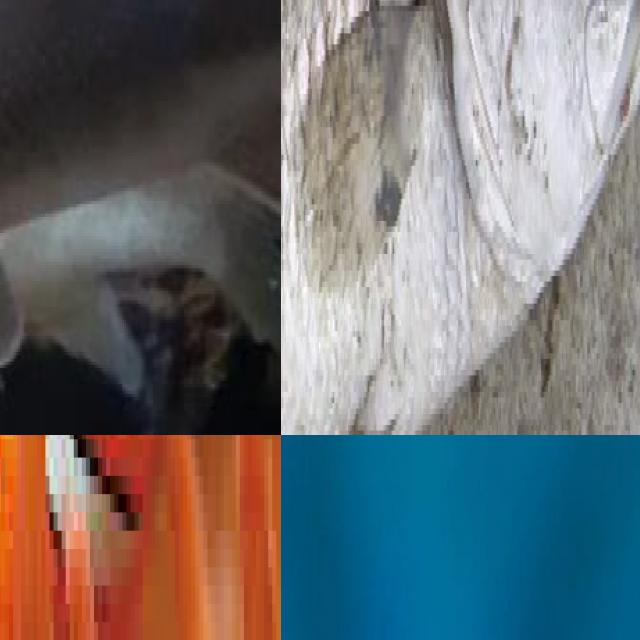fish: (0, 0, 281, 435), (417, 591, 473, 640)
